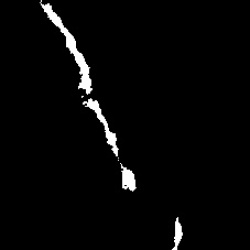crack: (40, 4, 92, 98), (84, 97, 119, 158), (122, 164, 137, 191), (170, 219, 183, 247)
